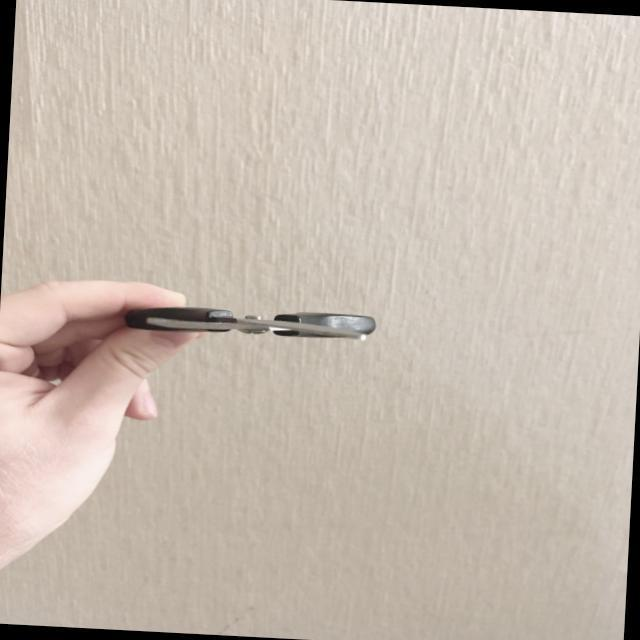scissors: (126, 299, 377, 348)
